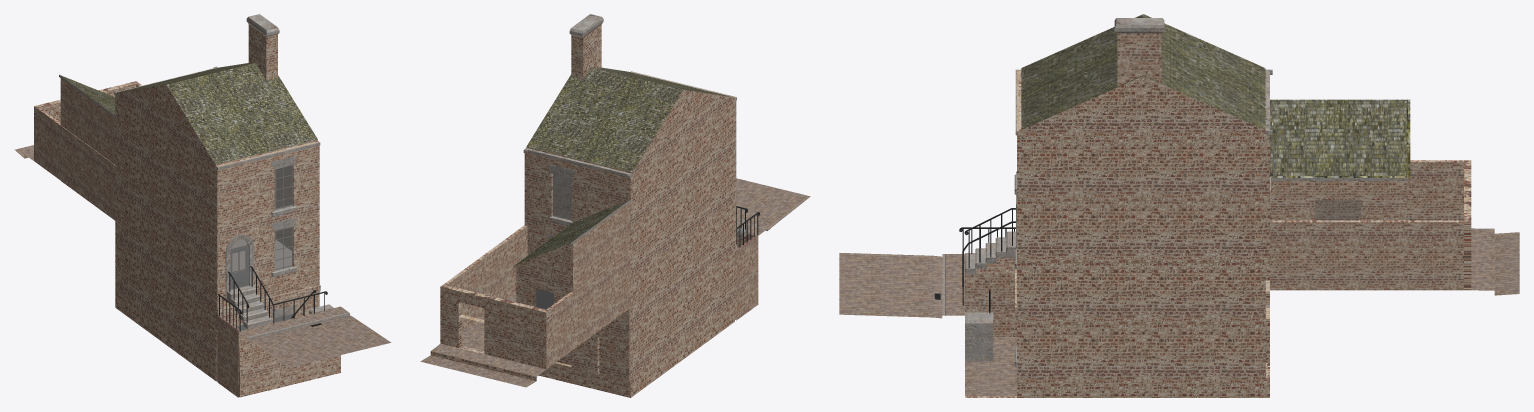
File: TERRACE3.fbx
3 renders of one model, left to right at view 1: azimuth 30°, elevation 25°; view 2: azimuth 150°, elevation 25°; view 3: azimuth 270°, elevation 25°, orthographic. The views are drawn at different scales.
Visible parts, largest first — view 1: arch.000; view 2: arch.000; view 3: arch.000.
Boxes of the visible parts, left/top/right/bottom form: arch.000: left=14, top=14, right=391, bottom=397; arch.000: left=420, top=14, right=810, bottom=397; arch.000: left=839, top=14, right=1519, bottom=397.
Size of the model in its own units: 659 by 1853 by 3067.
Materials: 8 (4 with a texture image).
